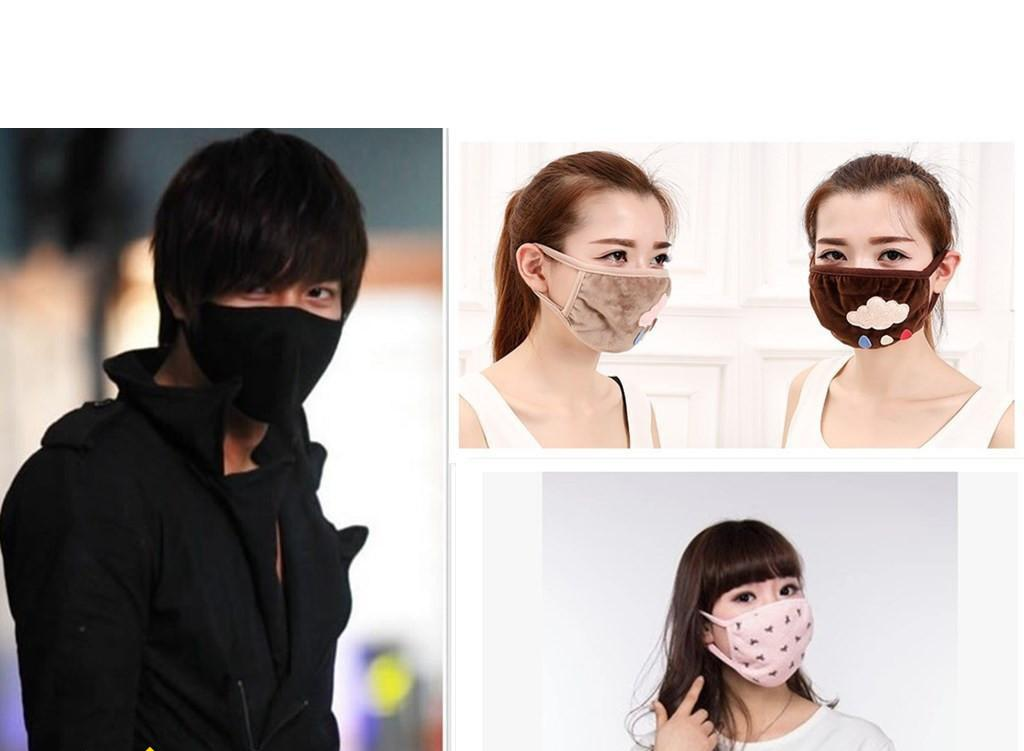OK: (190, 274, 358, 421), (554, 231, 676, 353), (805, 225, 926, 346), (702, 567, 815, 686)
